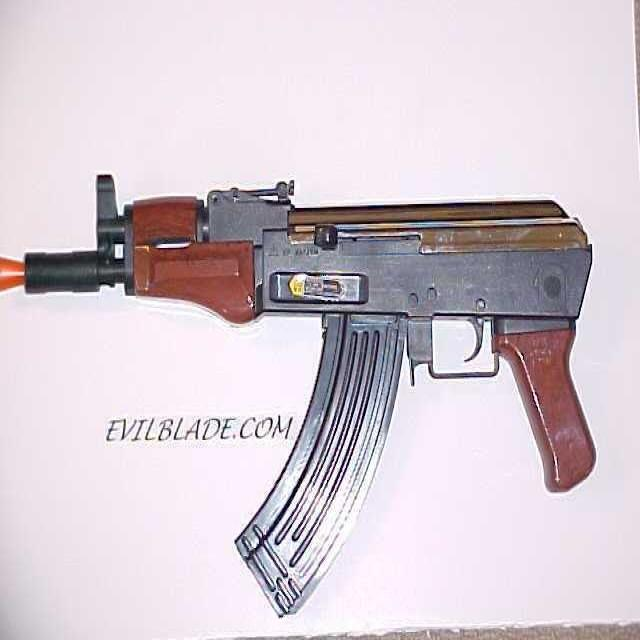heavyweapon: (18, 146, 617, 605)
